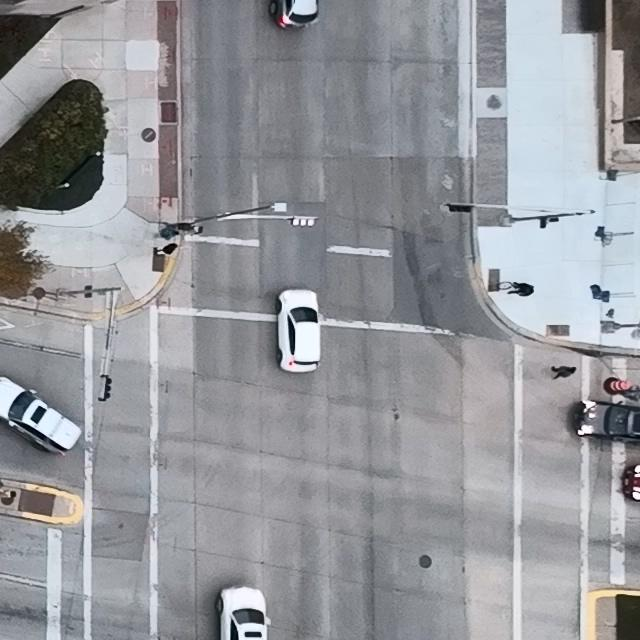car: (0, 375, 82, 454), (276, 289, 322, 373), (570, 399, 640, 445), (215, 586, 272, 640), (268, 0, 320, 29), (622, 463, 640, 502)
